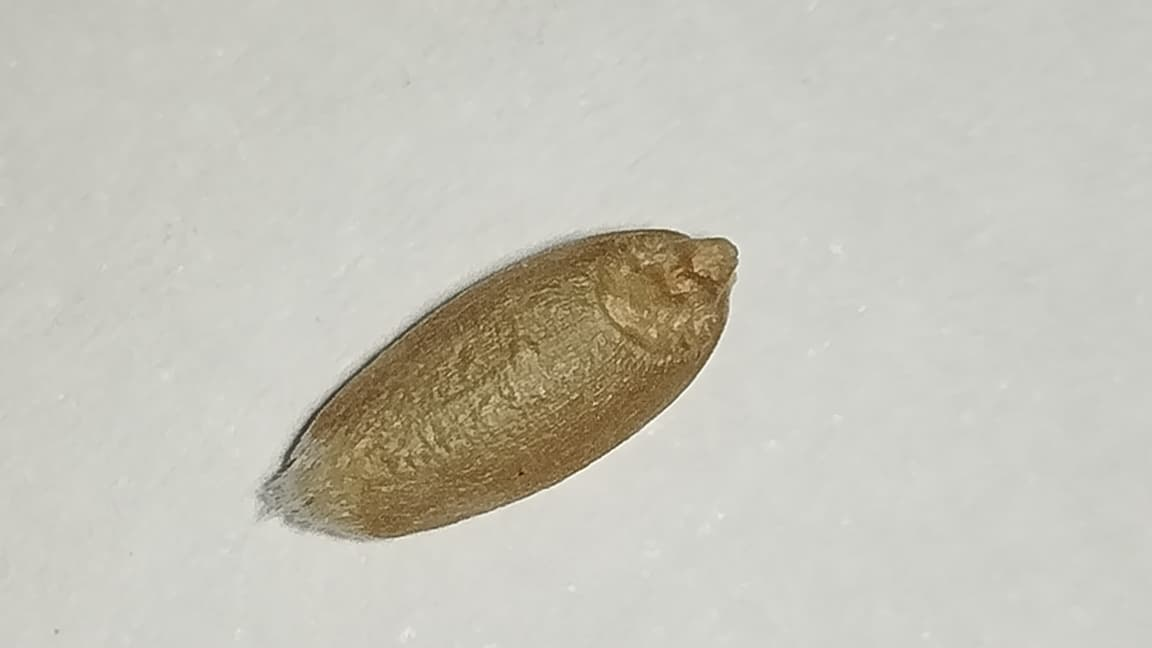healthy: (296, 230, 736, 536)
